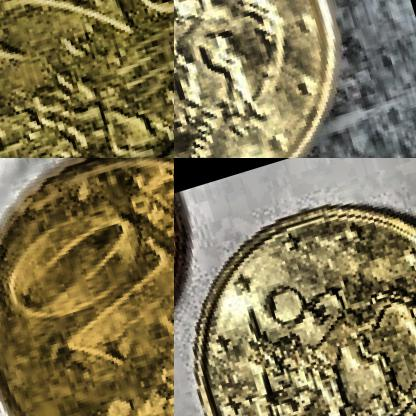coin: (174, 163, 415, 415), (0, 158, 173, 415), (174, 0, 380, 157), (0, 0, 173, 157)
